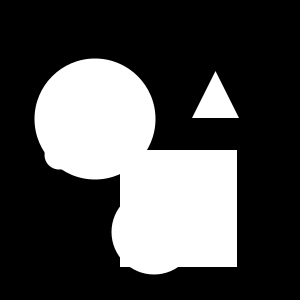circle: (120, 150, 237, 267)
rectangle: (34, 58, 156, 180), (112, 189, 196, 274), (44, 140, 74, 170)
triangle: (192, 71, 239, 118)
